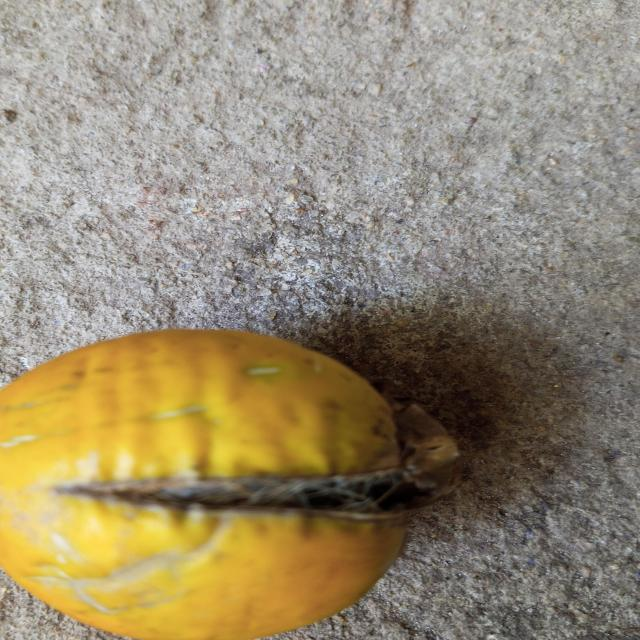damaged: (0, 329, 461, 640)
